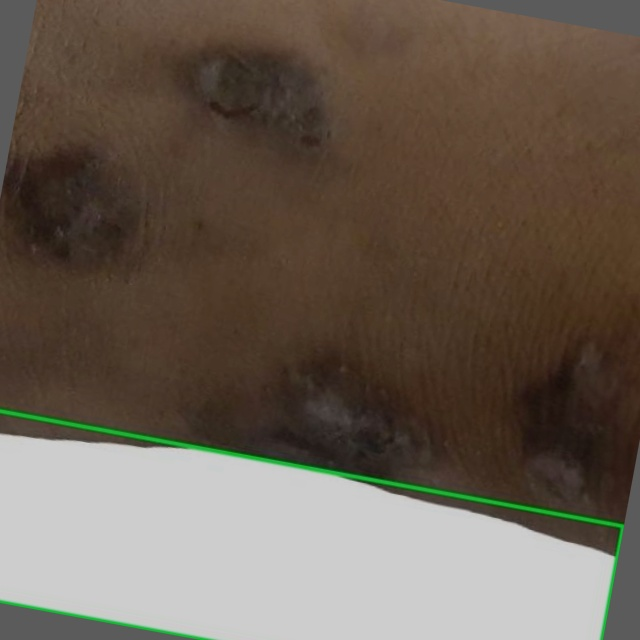Contact Dermatitis: (0, 411, 623, 639)
